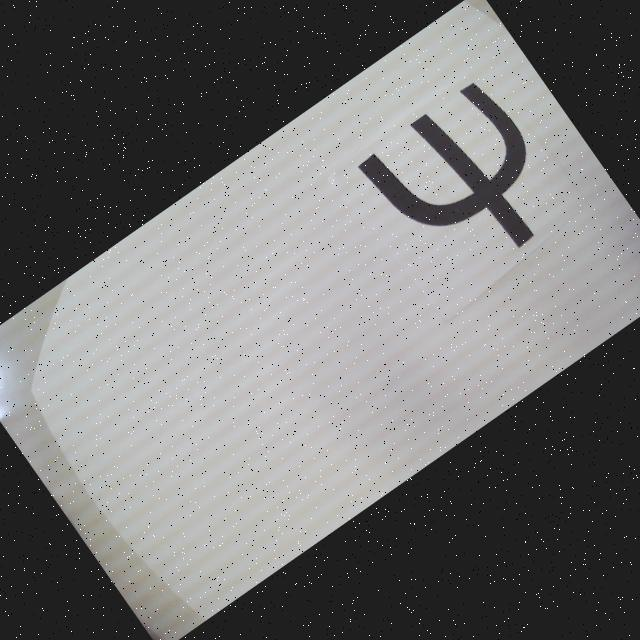PSI: (353, 72, 577, 298)
